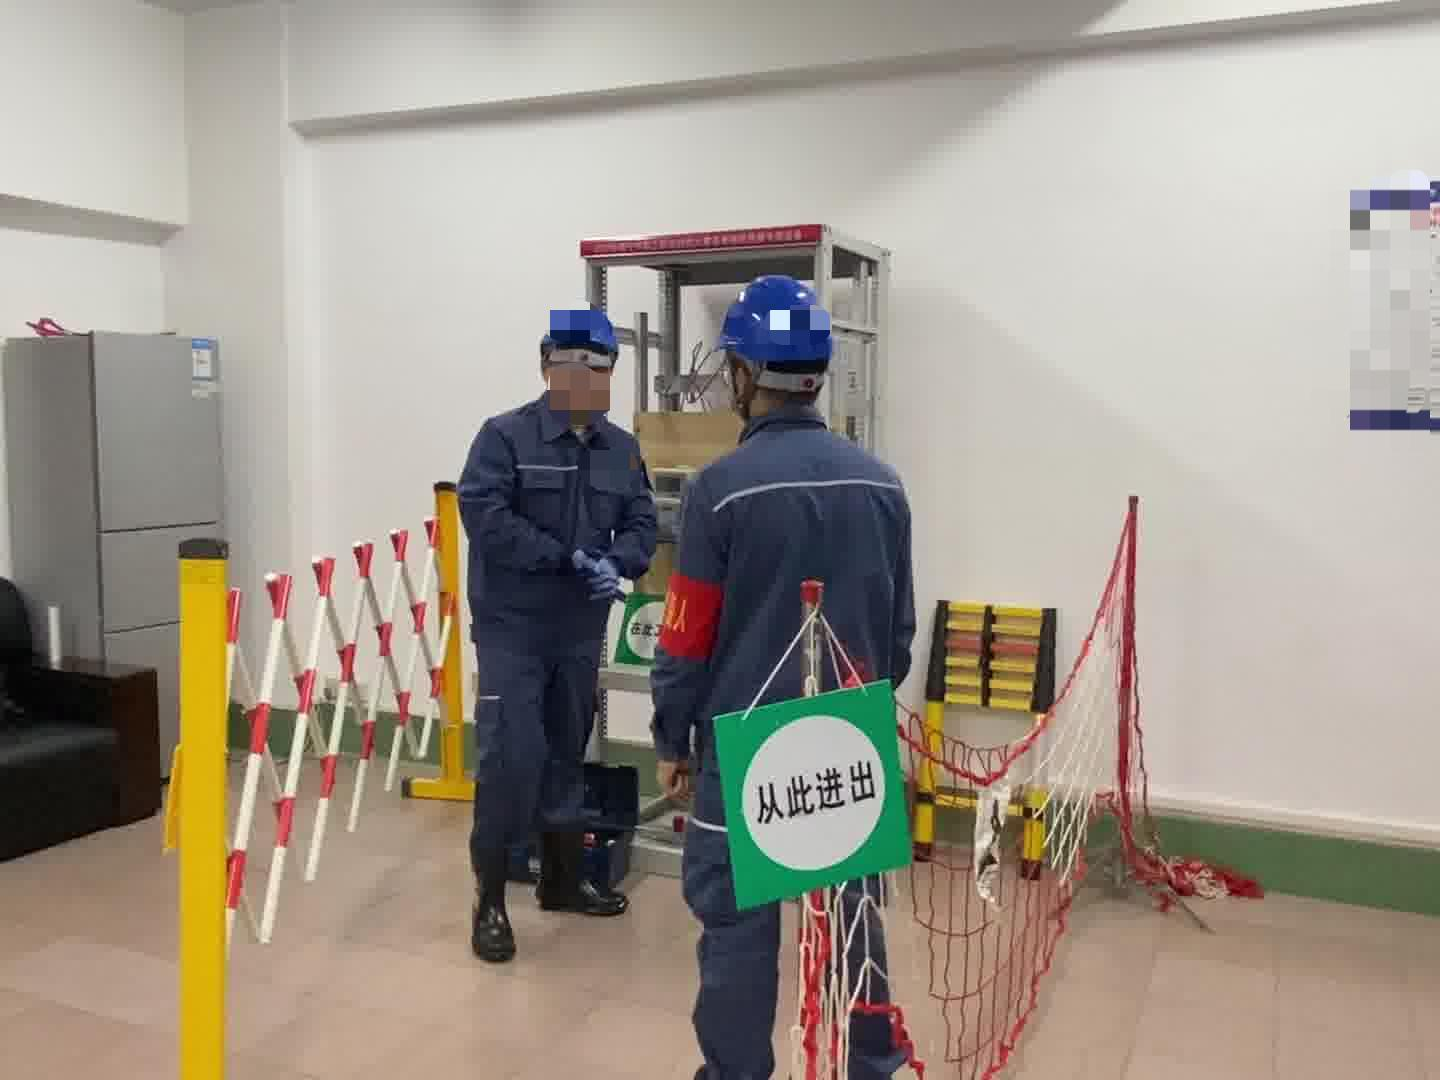halt: (719, 275, 839, 415)
inear: (726, 358, 766, 417)
